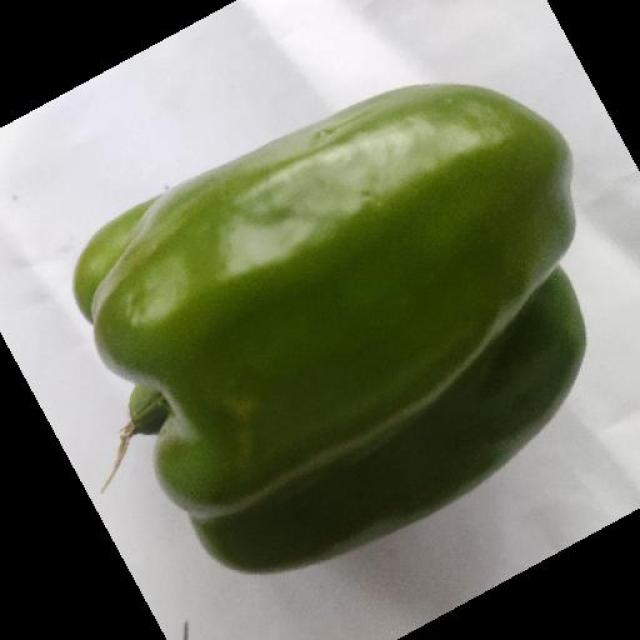Stale_Capsicum: (70, 119, 556, 533)
